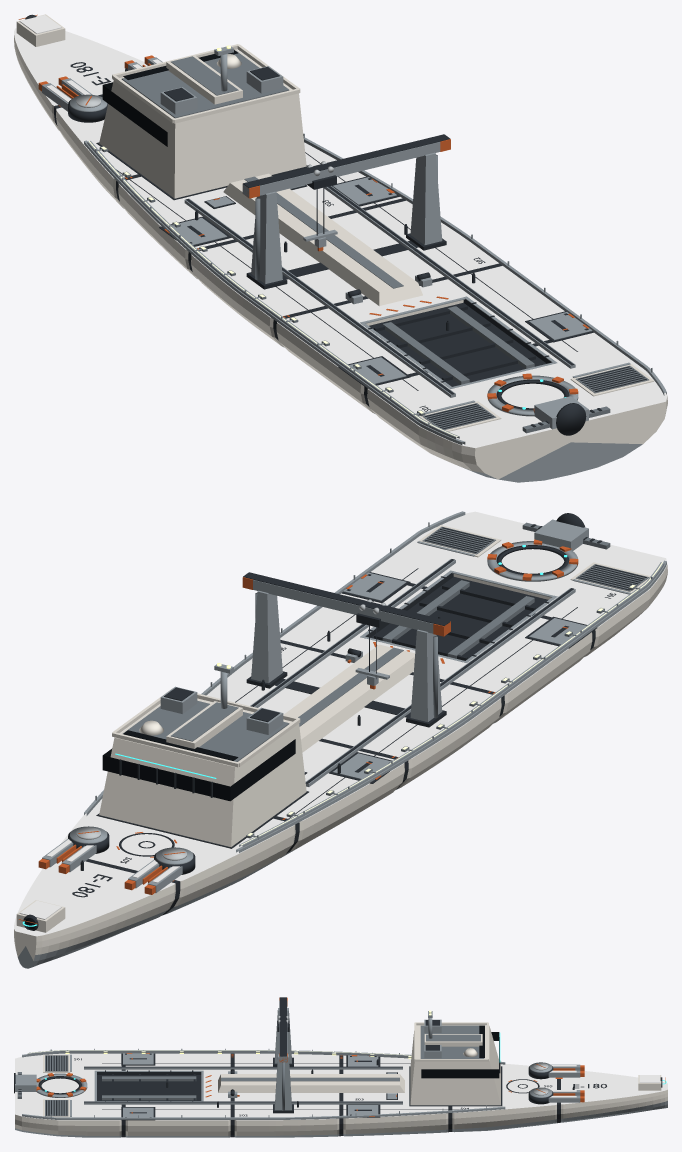
File: ship.glb
3 renders of one model, top to bottom at view 1: azimuth 30°, elevation 25°; view 2: azimuth 150°, elevation 25°; view 3: azimuth 270°, elevation 25°, orthographic. The views are drawn at different scales.
Parts seen in each view (by area): view 1: GEO_Hull, GEO_Bridge, GEO_Spine, GEO_Bay_Floor, GEO_RoofDeck, GEO_GantryTower_1, GEO_LightRail, GEO_GantryTower_-1, GEO_Beam, GEO_Bulwark_S, GEO_Bulwark_P, GEO_Rail_1 (+21 smaller); view 2: GEO_Hull, GEO_Bridge, GEO_Spine, GEO_Bay_Floor, GEO_RoofDeck, GEO_LightRail, GEO_GantryTower_1, GEO_GantryTower_-1, GEO_Bulwark_P, GEO_Beam, GEO_Glass_Front, GEO_Rail_-1 (+19 smaller); view 3: GEO_Hull, GEO_Bridge, GEO_Spine, GEO_Bay_Floor, GEO_Bulwark_S, GEO_Rail_1, GEO_LightRail, GEO_RoofDeck, GEO_Rail_-1, GEO_Spine_Cap, GEO_Glass_S, GEO_Bulwark_P (+21 smaller).
Part boxes in pixels (x1,y1,x2,y2): GEO_Hull: [14, 28, 667, 482]; GEO_Bridge: [99, 49, 306, 198]; GEO_Spine: [223, 173, 422, 305]; GEO_Bay_Floor: [369, 302, 546, 386]; GEO_RoofDeck: [121, 51, 289, 118]; GEO_GantryTower_1: [410, 152, 442, 244]; GEO_LightRail: [87, 141, 459, 439]; GEO_GantryTower_-1: [251, 191, 282, 283]; GEO_Beam: [242, 142, 440, 197]; GEO_Bulwark_S: [303, 137, 666, 395]; GEO_Bulwark_P: [84, 140, 465, 444]; GEO_Rail_1: [324, 186, 575, 368]; GEO_Hull: [14, 511, 667, 968]; GEO_Bridge: [99, 698, 306, 846]; GEO_Spine: [284, 644, 415, 752]; GEO_Bay_Floor: [370, 577, 548, 658]; GEO_RoofDeck: [122, 700, 289, 761]; GEO_LightRail: [239, 562, 664, 847]; GEO_GantryTower_1: [251, 590, 282, 683]; GEO_GantryTower_-1: [410, 629, 442, 721]; GEO_Bulwark_P: [236, 560, 666, 852]; GEO_Beam: [253, 580, 433, 633]; GEO_Glass_Front: [102, 755, 230, 800]; GEO_Rail_-1: [305, 588, 575, 786]; GEO_Hull: [15, 1053, 667, 1137]; GEO_Bridge: [410, 1025, 500, 1105]; GEO_Spine: [218, 1074, 404, 1092]; GEO_Bay_Floor: [97, 1075, 201, 1100]; GEO_Bulwark_S: [22, 1106, 505, 1119]; GEO_Rail_1: [84, 1101, 402, 1104]; GEO_LightRail: [27, 1050, 500, 1062]; GEO_RoofDeck: [420, 1025, 484, 1058]; GEO_Rail_-1: [84, 1067, 402, 1069]; GEO_Spine_Cap: [221, 1077, 399, 1081]; GEO_Glass_S: [421, 1069, 499, 1078]; GEO_Bulwark_P: [22, 1052, 505, 1064].
Bounding box in the file's own units: 44.18 × 33 × 180.
